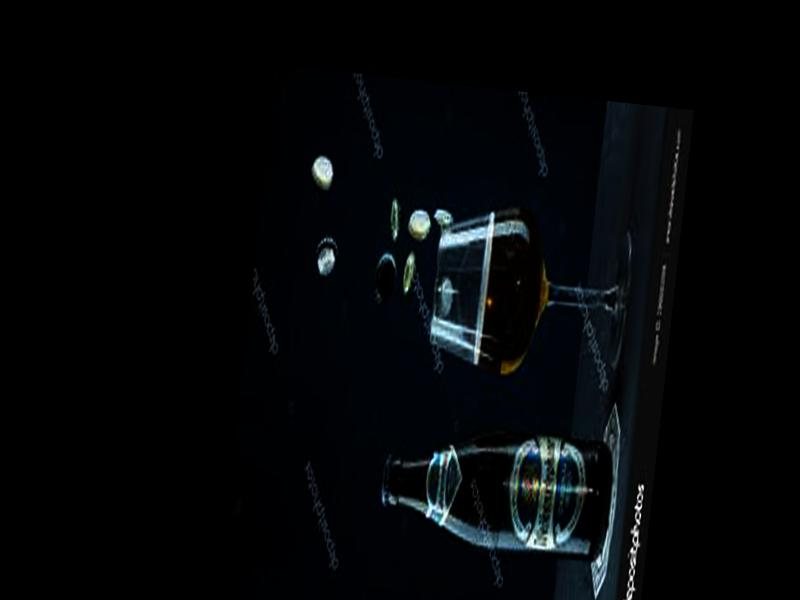Beer: (378, 422, 613, 558)
